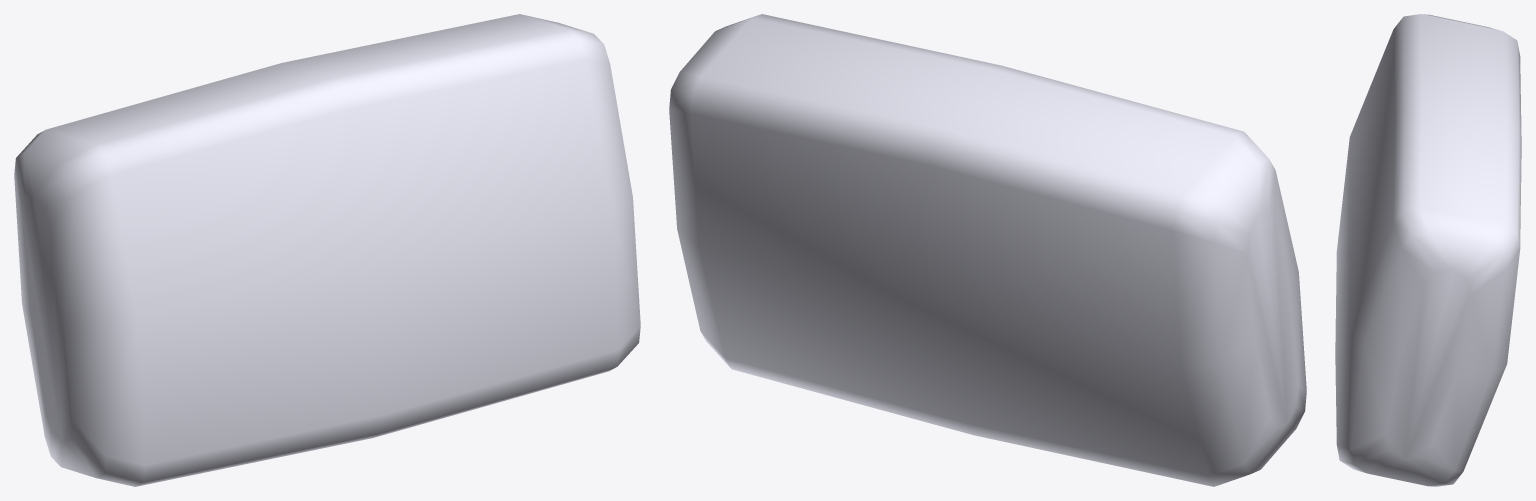
File: Prop_GenericPillow_02.fbx
3 renders of one model, left to right at view 1: azimuth 30°, elevation 25°; view 2: azimuth 150°, elevation 25°; view 3: azimuth 270°, elevation 25°, orthographic. The views are drawn at different scales.
Parts seen in each view (by area): view 1: Prop_GenericPillow_02; view 2: Prop_GenericPillow_02; view 3: Prop_GenericPillow_02.
Boxes of the visible parts, x1,y1,x2,y2 form: Prop_GenericPillow_02: (14, 14, 640, 486); Prop_GenericPillow_02: (669, 14, 1306, 486); Prop_GenericPillow_02: (1335, 14, 1521, 486).
Bounding box in the file's own units: 63.55 × 37.94 × 21.88.
